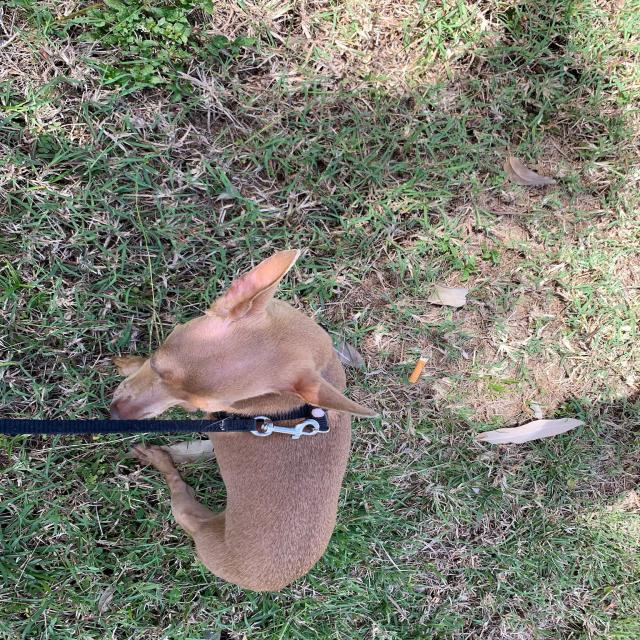litter: (98, 250, 341, 583)
